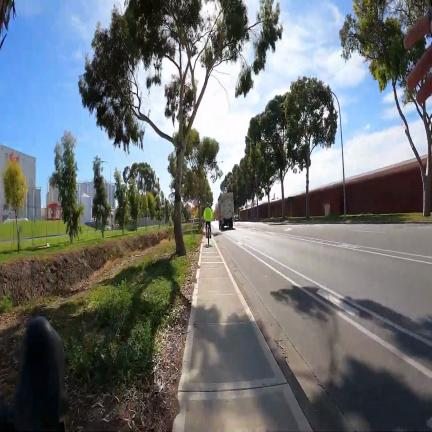Bike_Lane: (216, 236, 432, 432)
